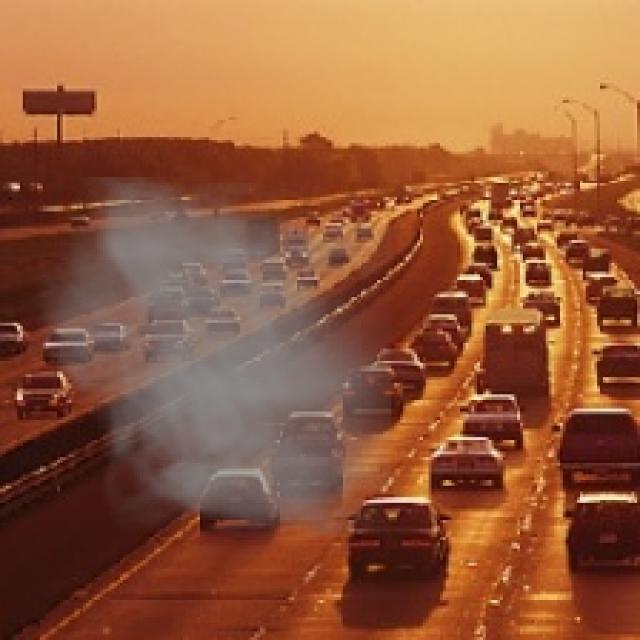smoke: (26, 177, 391, 537)
